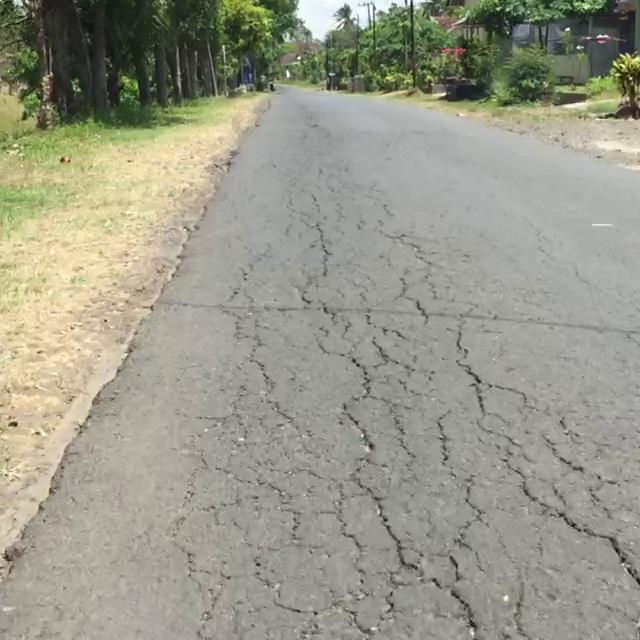retak_kulit_buaya: (204, 190, 640, 640)
